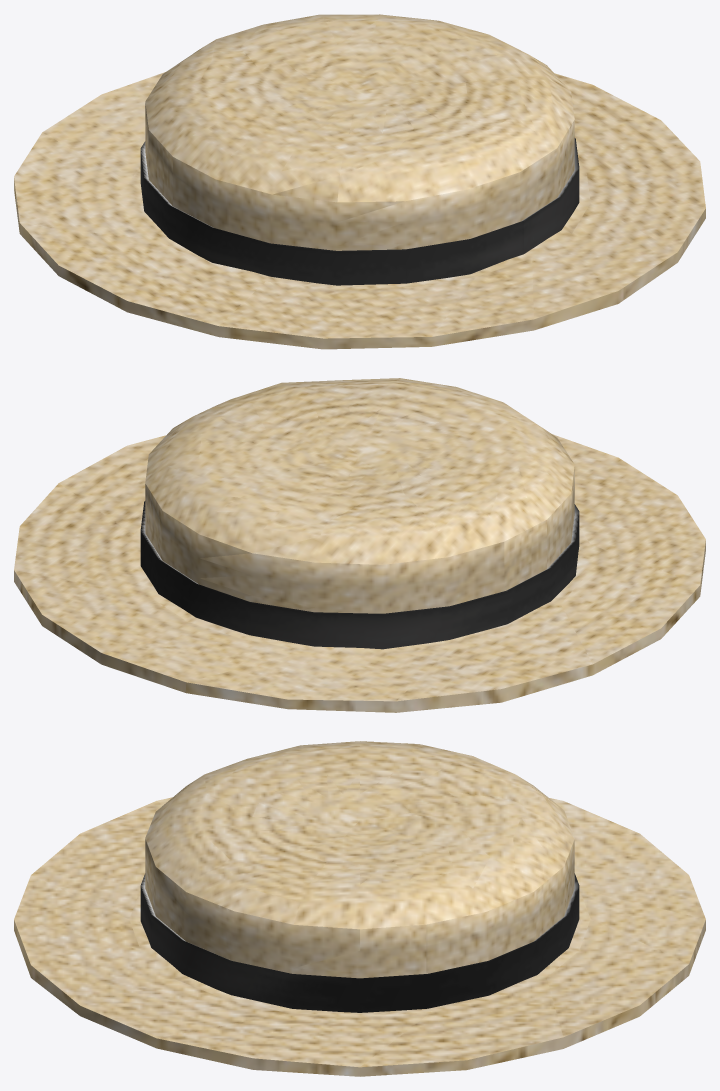
File: wear_boater.glb
3 renders of one model, top to bottom at view 1: azimuth 30°, elevation 25°; view 2: azimuth 150°, elevation 25°; view 3: azimuth 270°, elevation 25°, orthographic.
Parts seen in each view (by area): view 1: mesh; view 2: mesh; view 3: mesh.
Part boxes in pixels (left/top/right/bottom): mesh: left=14, top=14, right=705, bottom=349; mesh: left=14, top=378, right=705, bottom=712; mesh: left=14, top=741, right=705, bottom=1076.
Bounding box in the file's own units: 0.5236 × 0.1 × 0.5236.
Materials: 1 (1 with a texture image).
